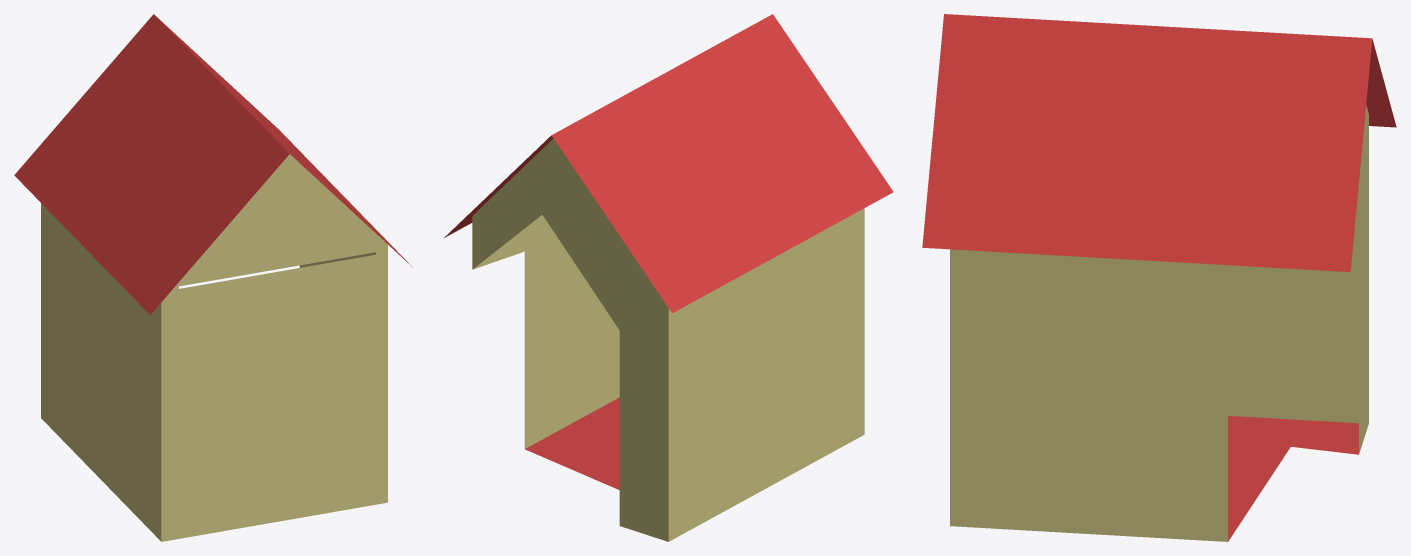
The picture shows the model from 3 angles, left to right: view 1: azimuth 30°, elevation 25°; view 2: azimuth 150°, elevation 25°; view 3: azimuth 270°, elevation 25°; orthographic projection. The views are drawn at different scales.
Size of the model in its own units: 12.11 by 14.37 by 15.14.
